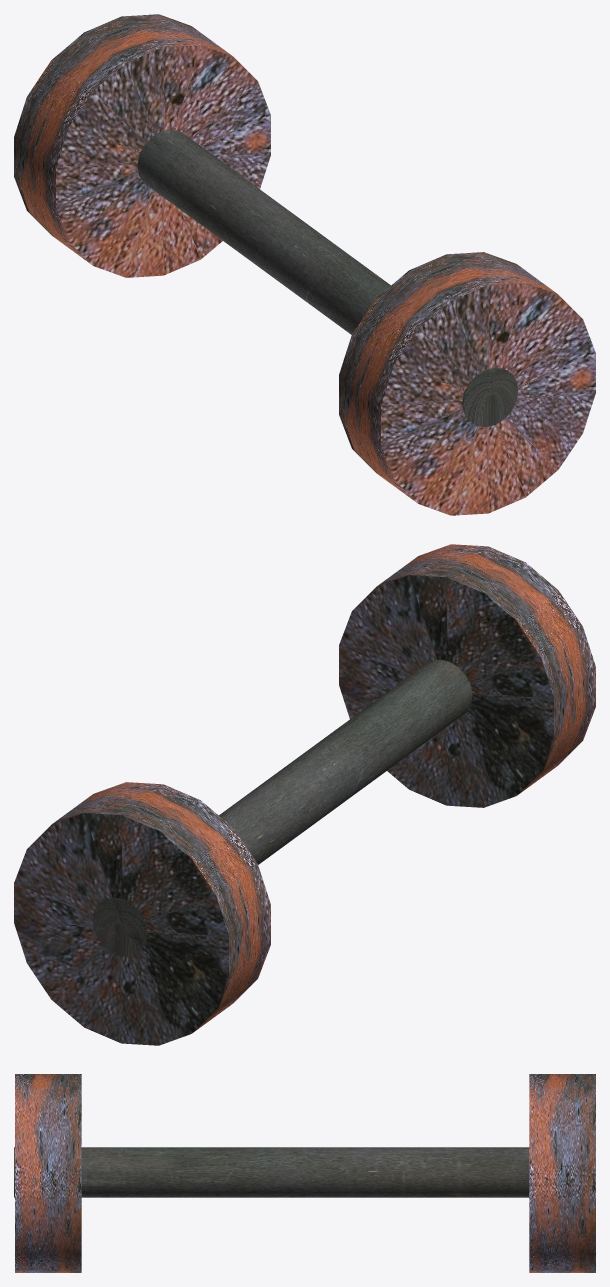
The model's file is Rusty_Weight.FBX.
3 renders of one model, top to bottom at view 1: azimuth 30°, elevation 25°; view 2: azimuth 150°, elevation 25°; view 3: azimuth 270°, elevation 25°, orthographic. The views are drawn at different scales.
Parts seen in each view (by area): view 1: Tube02, Tube01, Cylinder01; view 2: Tube01, Tube02, Cylinder01; view 3: Cylinder01, Tube01, Tube02.
Boxes of the visible parts, box(x1,y1,x2,y2) form: Tube02: box(339, 252, 595, 515); Tube01: box(14, 14, 270, 277); Cylinder01: box(137, 129, 518, 427); Tube01: box(14, 782, 270, 1045); Tube02: box(339, 544, 595, 807); Cylinder01: box(92, 659, 472, 956); Cylinder01: box(14, 1147, 529, 1197); Tube01: box(529, 1074, 595, 1272); Tube02: box(15, 1074, 81, 1272).
Bounding box in the file's own units: 29.54 × 30 × 87.51.
Materials: 2 (2 with a texture image).
